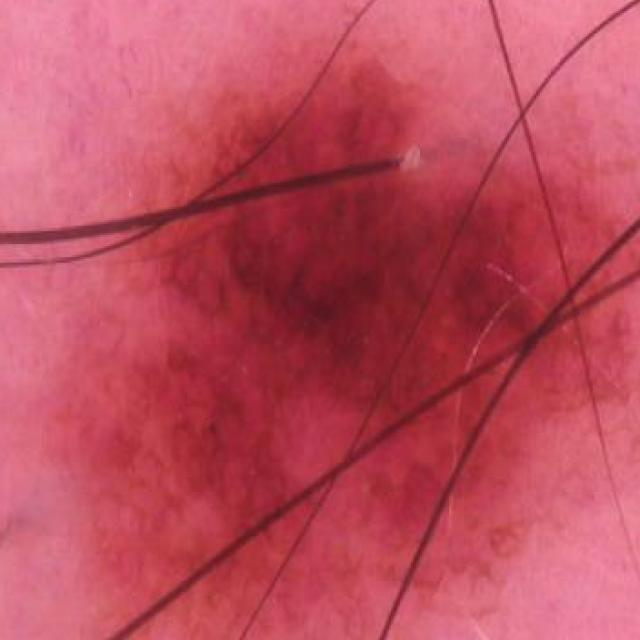NV: (65, 42, 636, 640)
